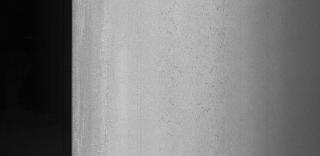silk spot: (158, 7, 235, 132)
